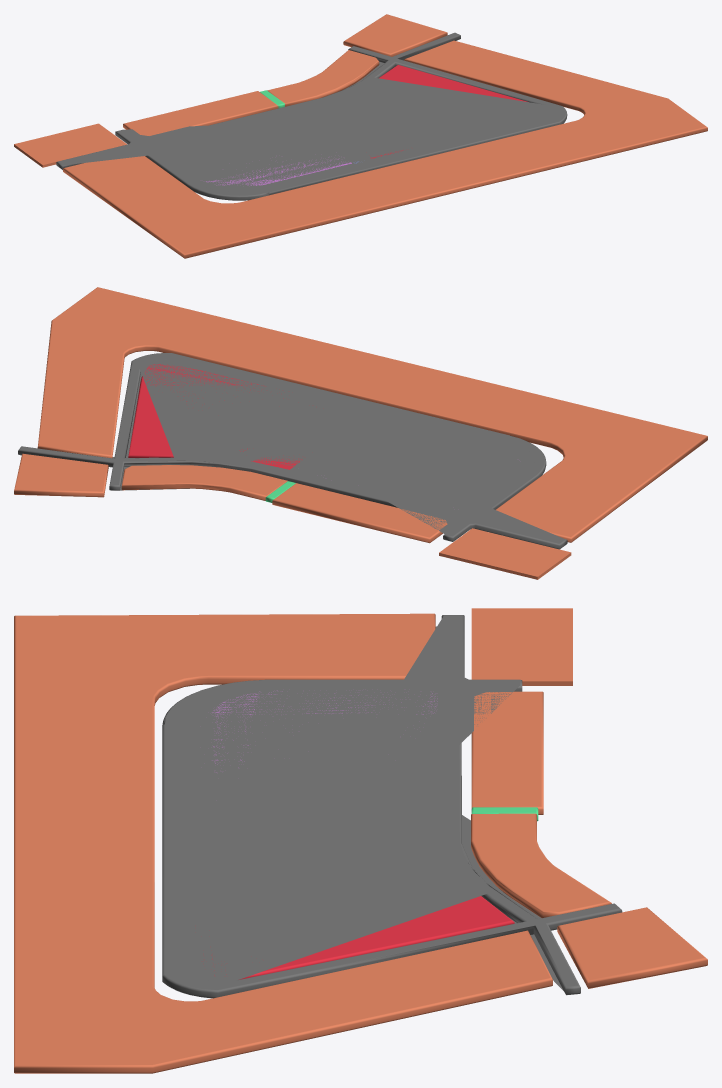
File: Map_ground 1.fbx
3 views of the same model, one above another, from view 1: azimuth 30°, elevation 25°; view 2: azimuth 150°, elevation 25°; view 3: azimuth 270°, elevation 25° (orthographic). The views are drawn at different scales.
Visible parts, largest first — view 1: Curve.008, Curve.006, Curve.012, Curve, Curve.009, Curve.010, Curve.002, Curve.001; view 2: Curve.008, Curve.006, Curve.012, Curve, Curve.009, Curve.010, Curve.002; view 3: Curve.008, Curve.006, Curve.012, Curve.010, Curve.009, Curve, Curve.002.
Boxes of the visible parts, x1,y1,x2,y2 form: Curve.008: (63,40,707,258); Curve.006: (56,32,567,200); Curve.012: (123,91,278,135); Curve: (267,50,379,106); Curve.009: (14,123,126,167); Curve.010: (343,14,447,56); Curve.002: (370,65,528,158); Curve.001: (206,157,351,185); Curve.008: (37,287,707,542); Curve.006: (18,353,567,549); Curve.012: (272,483,447,543); Curve: (121,465,287,500); Curve.009: (439,528,571,579); Curve.010: (14,453,108,497); Curve.002: (128,364,302,469); Curve.008: (14,613,552,1073); Curve.006: (162,615,622,998); Curve.012: (471,691,543,814); Curve.010: (557,907,707,988); Curve.009: (471,608,572,685); Curve: (471,813,611,917); Curve.002: (211,896,514,979).
Bounding box in the file's own units: 47.1 × 0.4172 × 29.92.
